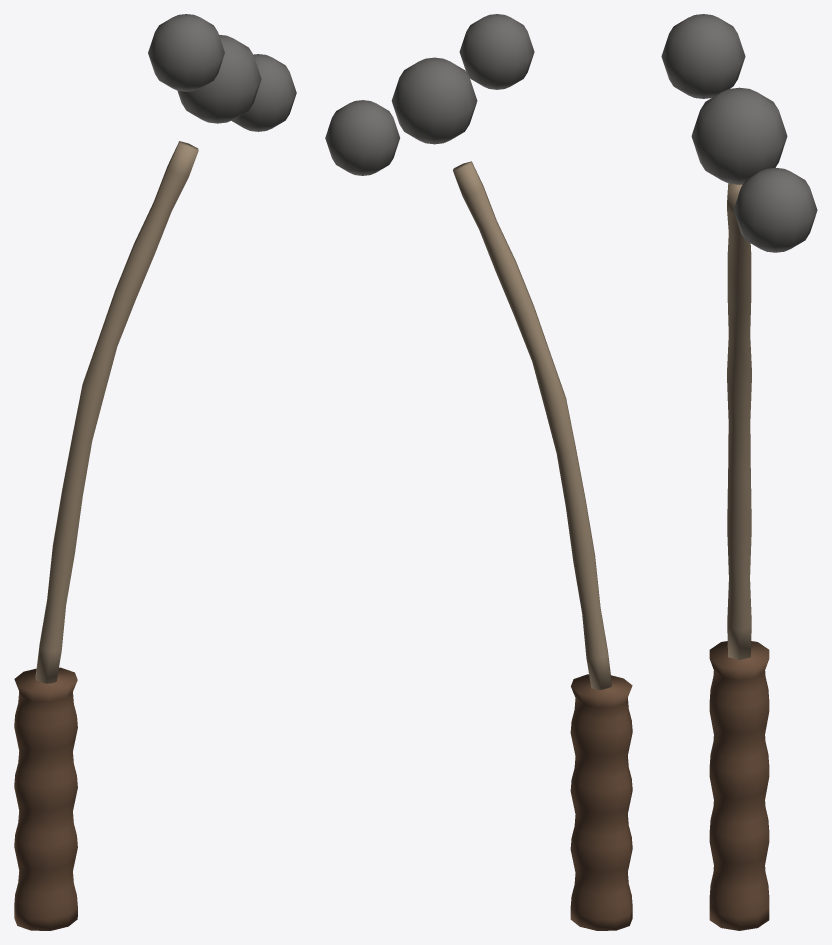
Rendered from halfling-rope-shot.glb.
3 views of the same model, side by side, from view 1: azimuth 30°, elevation 25°; view 2: azimuth 150°, elevation 25°; view 3: azimuth 270°, elevation 25° (orthographic). The views are drawn at different scales.
Visible parts, largest first — view 1: halfling-rope-shot; view 2: halfling-rope-shot; view 3: halfling-rope-shot.
Part boxes in pixels (x1,y1,x2,y2): halfling-rope-shot: [14, 14, 296, 930]; halfling-rope-shot: [325, 14, 632, 930]; halfling-rope-shot: [661, 14, 817, 930].
Bounding box in the file's own units: 0.3054 × 0.885 × 0.13.
